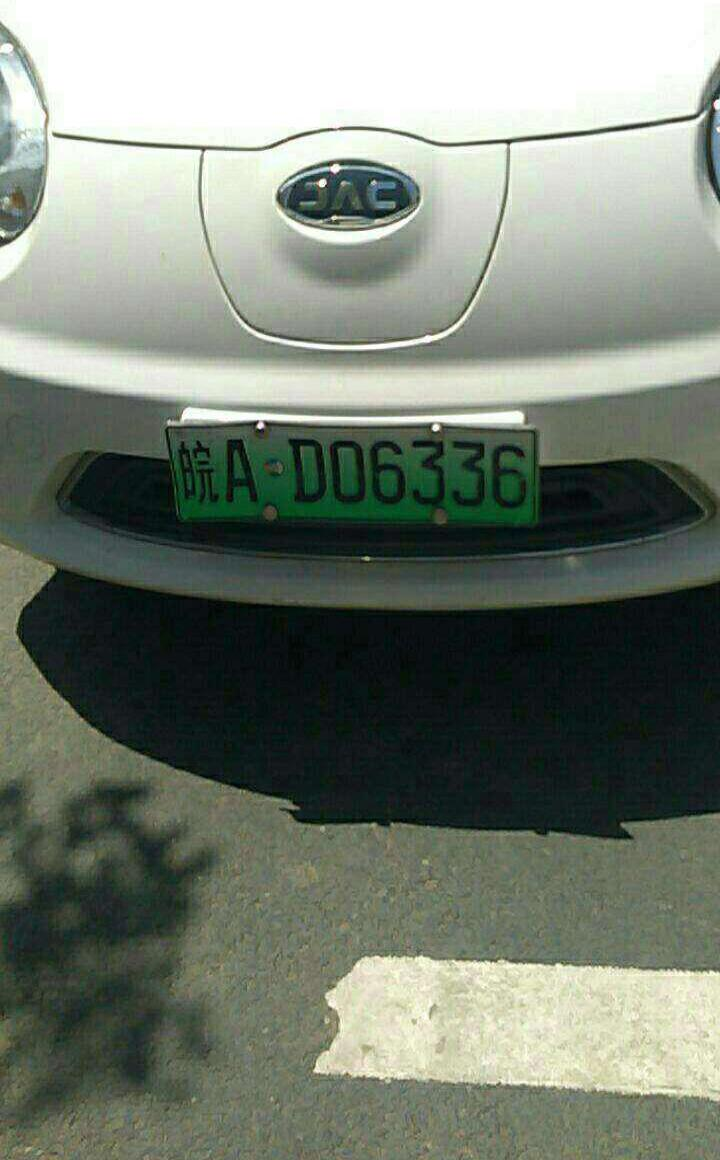car_id: (165, 426, 539, 525)
